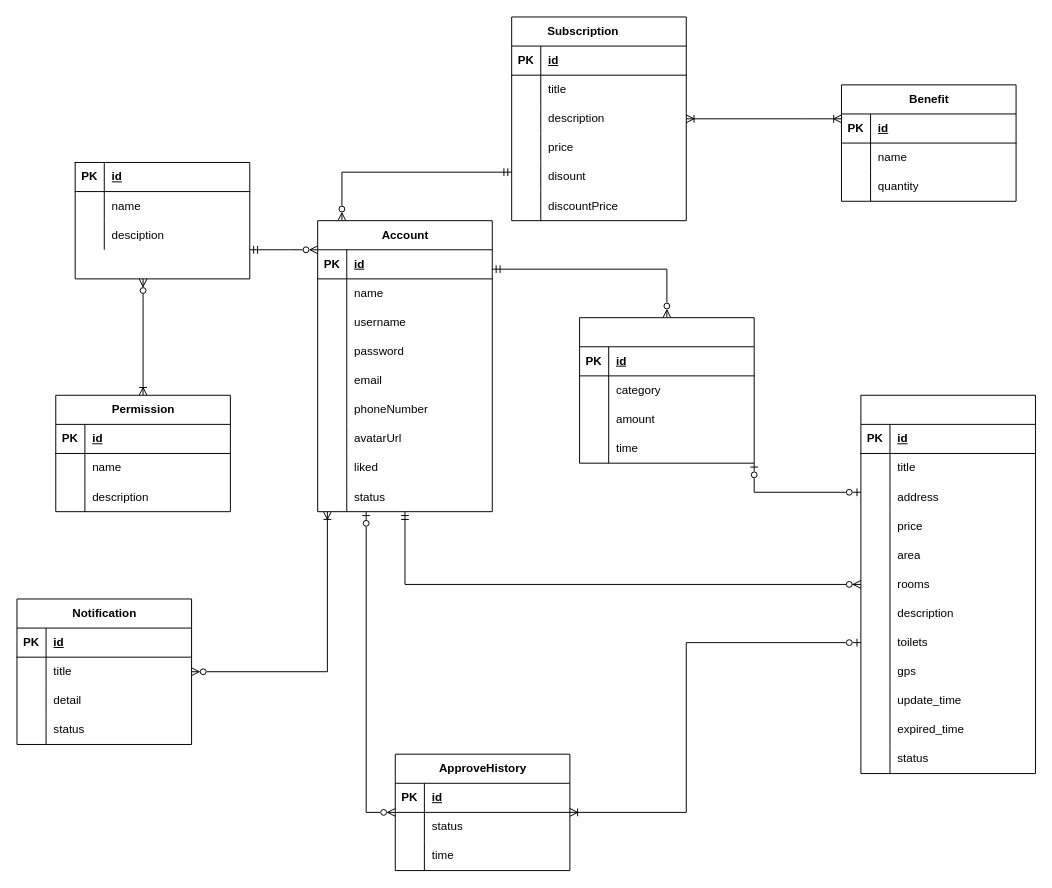
This 1052x888 diagram has some shape labels left out. Here are the shapes that lost their labels. From the top down, the box of each, then its label:
(74, 162, 250, 279): Role
(579, 317, 754, 463): PaymentHistory
(860, 394, 1035, 774): Properties
